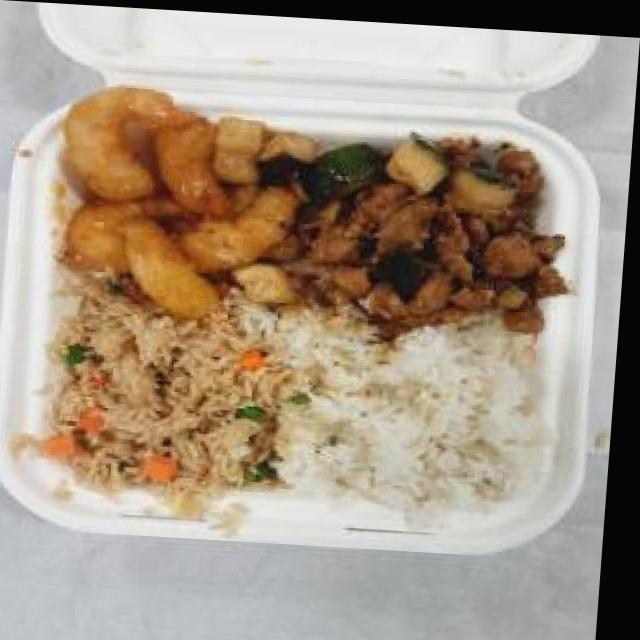Fried Rice: (34, 290, 299, 510)
Honey Walnut Shrimp: (39, 78, 331, 324)
Kung Pao Chicken: (292, 122, 579, 335)
White Steamed Rice: (286, 313, 563, 520)
